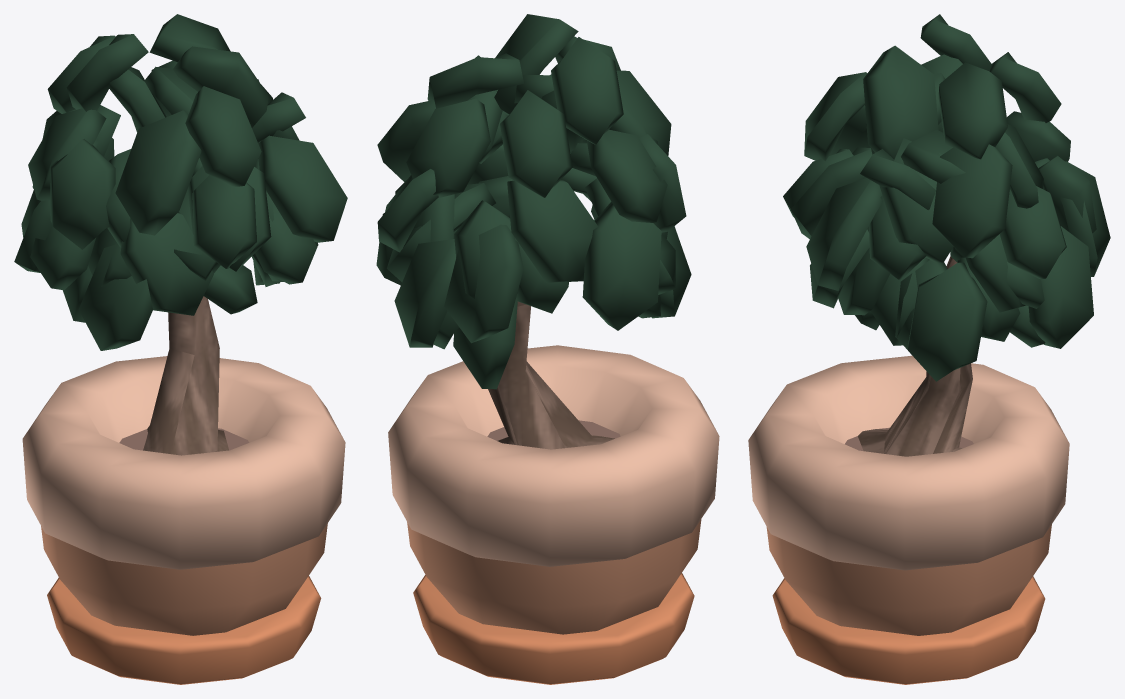
Rendered from flower_009.fbx.
3 renders of one model, left to right at view 1: azimuth 30°, elevation 25°; view 2: azimuth 150°, elevation 25°; view 3: azimuth 270°, elevation 25°, orthographic. The views are drawn at different scales.
Visible parts, largest first — view 1: flower_009; view 2: flower_009; view 3: flower_009.
Boxes of the visible parts, x1,y1,x2,y2 form: flower_009: [14, 14, 347, 684]; flower_009: [376, 14, 719, 684]; flower_009: [748, 14, 1110, 684].
Bounding box in the file's own units: 51.46 × 56.68 × 103.
